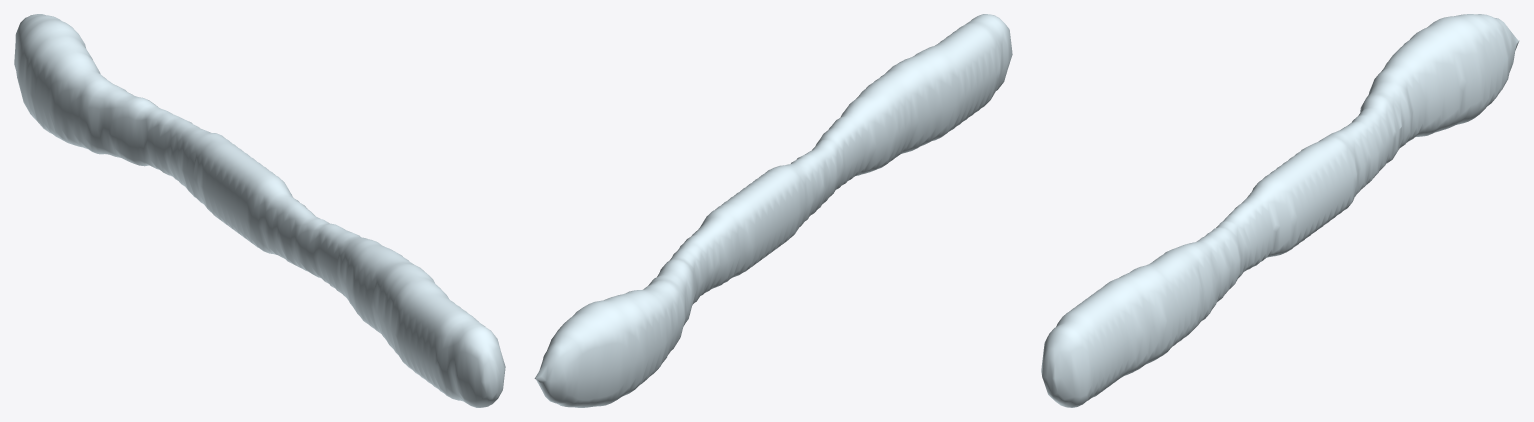
File: Snow Divider Thin.fbx
The picture shows the model from 3 angles, left to right: view 1: azimuth 30°, elevation 25°; view 2: azimuth 150°, elevation 25°; view 3: azimuth 330°, elevation 25°; orthographic projection.
Visible parts, largest first — view 1: root; view 2: root; view 3: root.
Boxes of the visible parts, x1,y1,x2,y2 form: root: (14,14,505,407); root: (534,14,1012,407); root: (1041,14,1519,407).
Size of the model in its own units: 0.0368 by 0.0432 by 0.3613.
1 material, 1 textured.
